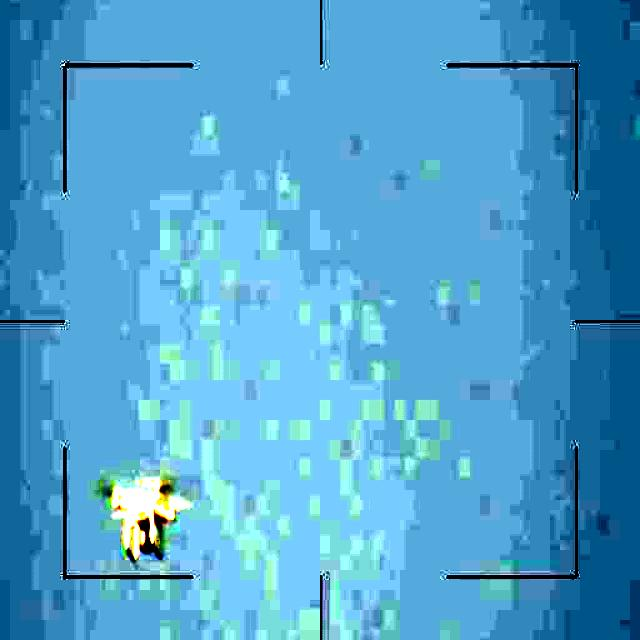bird: (100, 475, 196, 568)
